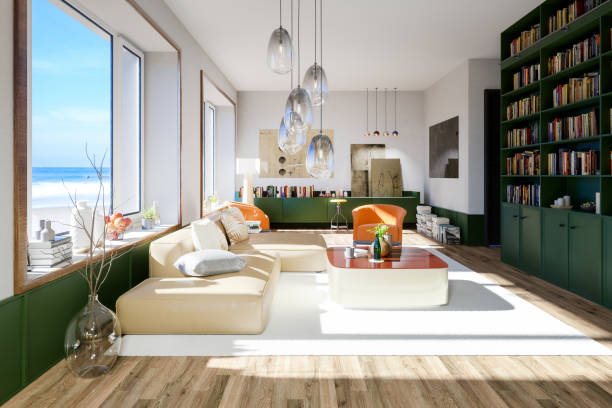chair: (350, 201, 408, 250)
sofa: (114, 204, 329, 339)
table: (324, 241, 451, 314)
wall art: (256, 127, 337, 182), (424, 114, 460, 179)
